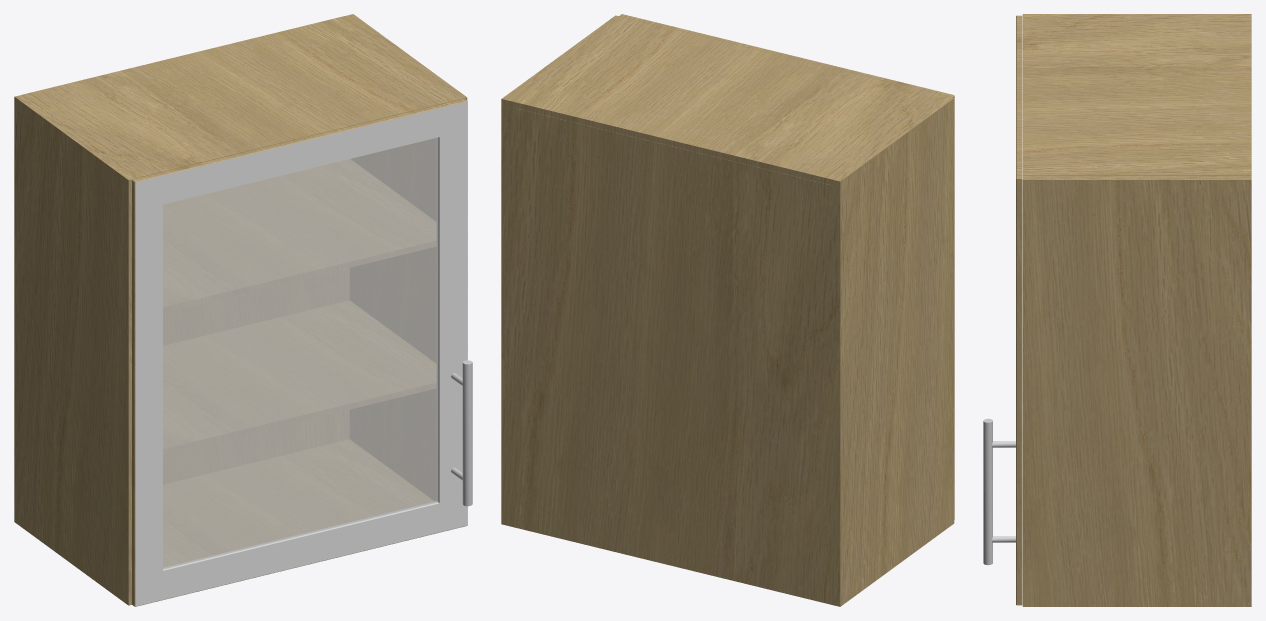
File: sh_blend_swap_cc_0_glassdoorcabinet.glb
3 renders of one model, left to right at view 1: azimuth 30°, elevation 25°; view 2: azimuth 150°, elevation 25°; view 3: azimuth 270°, elevation 25°, orthographic.
Size of the model in its own units: 0.6 by 0.72 by 0.41.
Materials: 5 (2 with a texture image).
